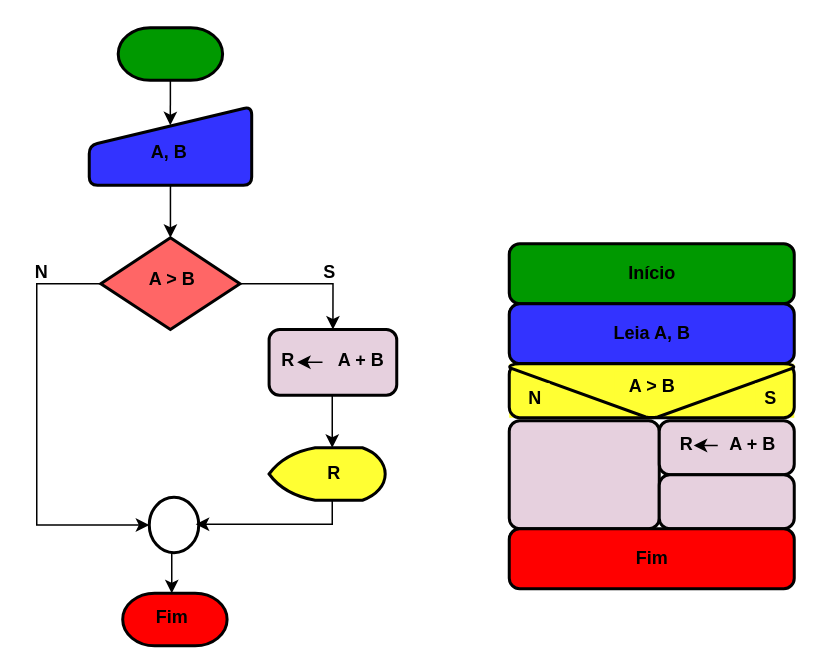
Image size: 822x672. Some labels were removed from this diagram. Each missing label, with the box of its shape:
Escreva R: (657, 472, 795, 530)
Ínicio: (116, 26, 223, 81)
